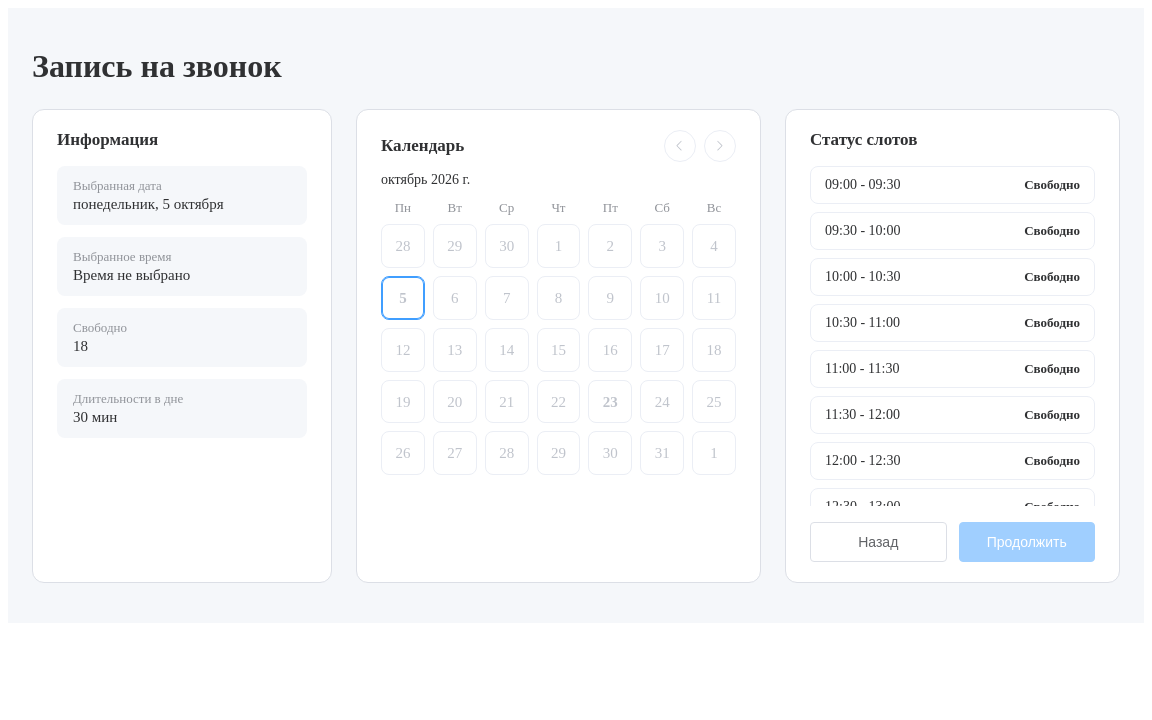
Test: BookingPage › enables «Продолжить» only after a slot is picked
Expected: the button "Продолжить" is disabled, left=958, top=522, right=1095, bottom=562
Click the button with class "slot" showing "10:00 - 10:30 Свободно": (863,276) left=810, top=258, right=1095, bottom=296
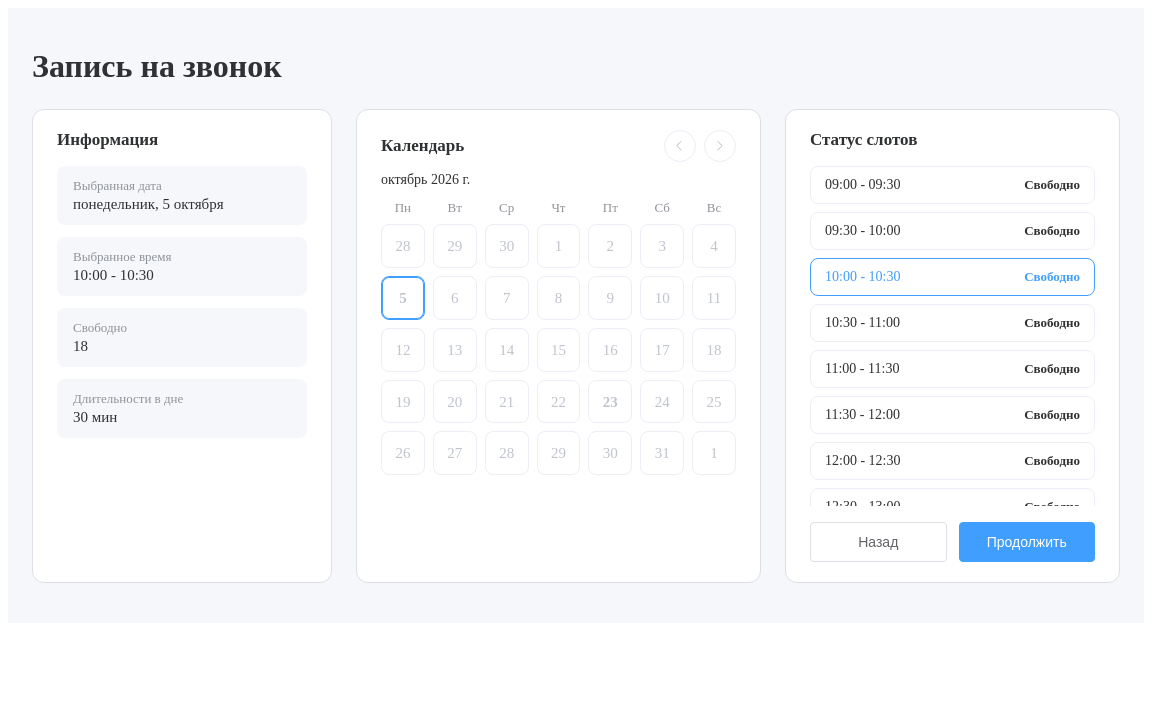
Expected: the number of buttons with class "slot--selected" is 1, left=810, top=258, right=1095, bottom=296
Expected: the button "Продолжить" is enabled, left=958, top=522, right=1095, bottom=562
